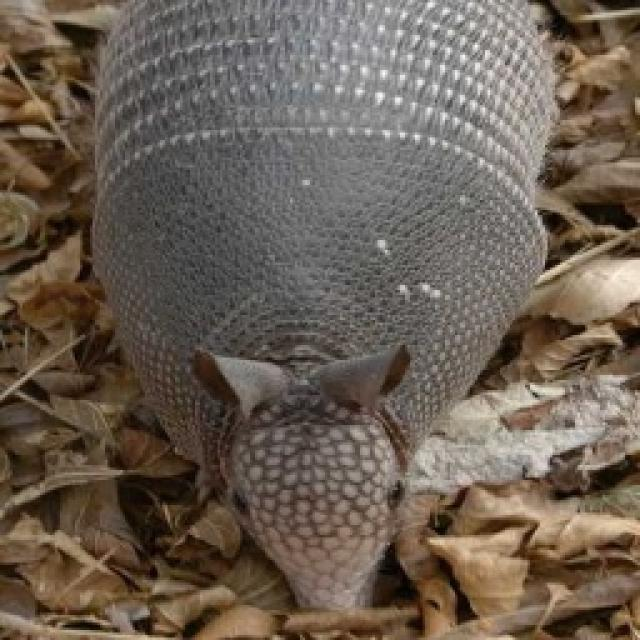not_pig: (87, 0, 565, 610)
